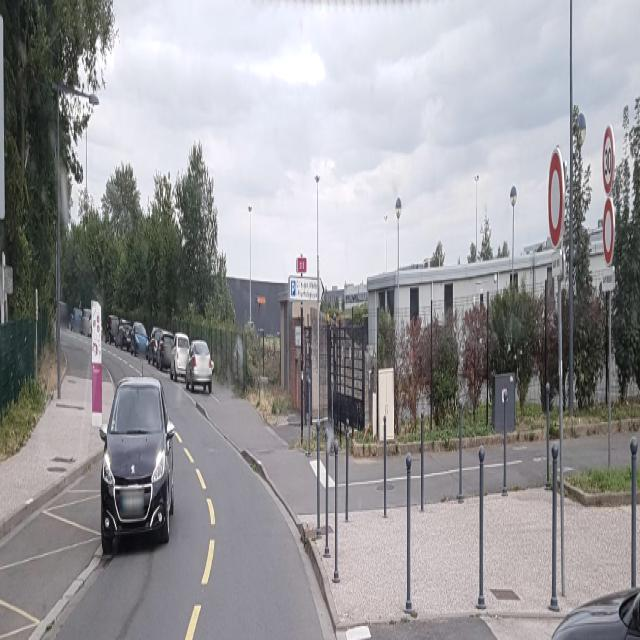speed_30: (603, 121, 614, 195)
